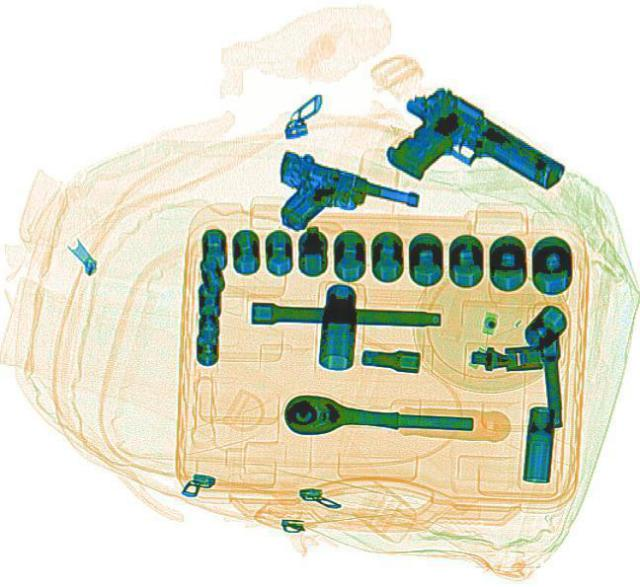Gun: (363, 74, 572, 236), (255, 147, 423, 259)
